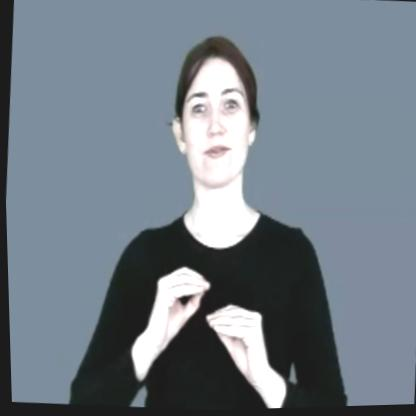Fix: (139, 265, 274, 393)
